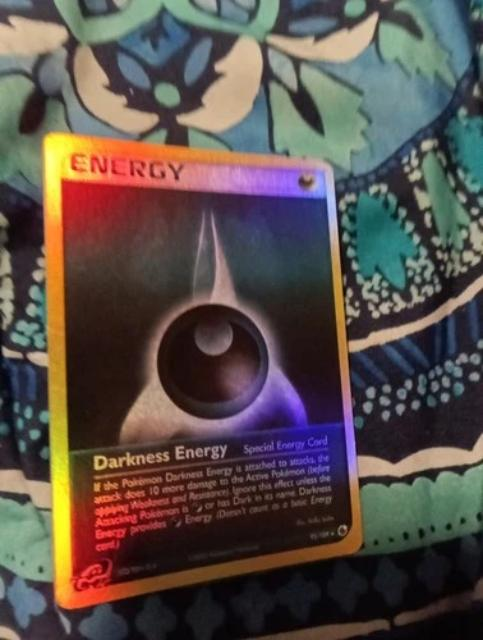Card: (39, 127, 368, 615)
Name: (85, 436, 235, 478)
